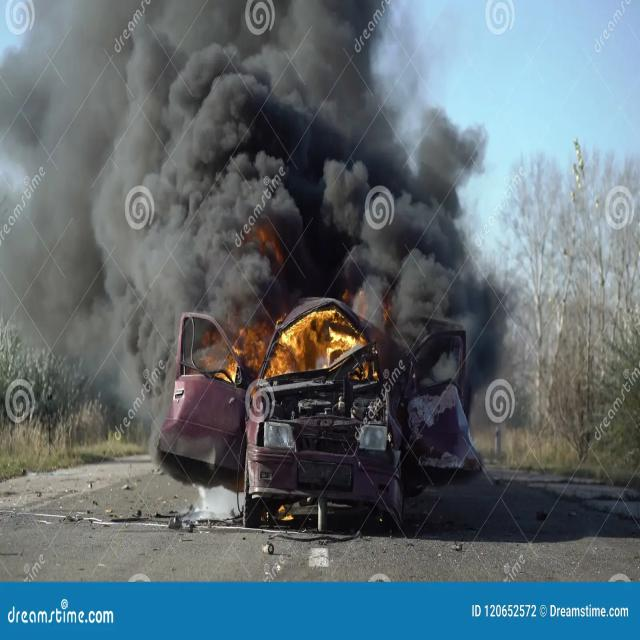fire: (218, 287, 379, 385)
